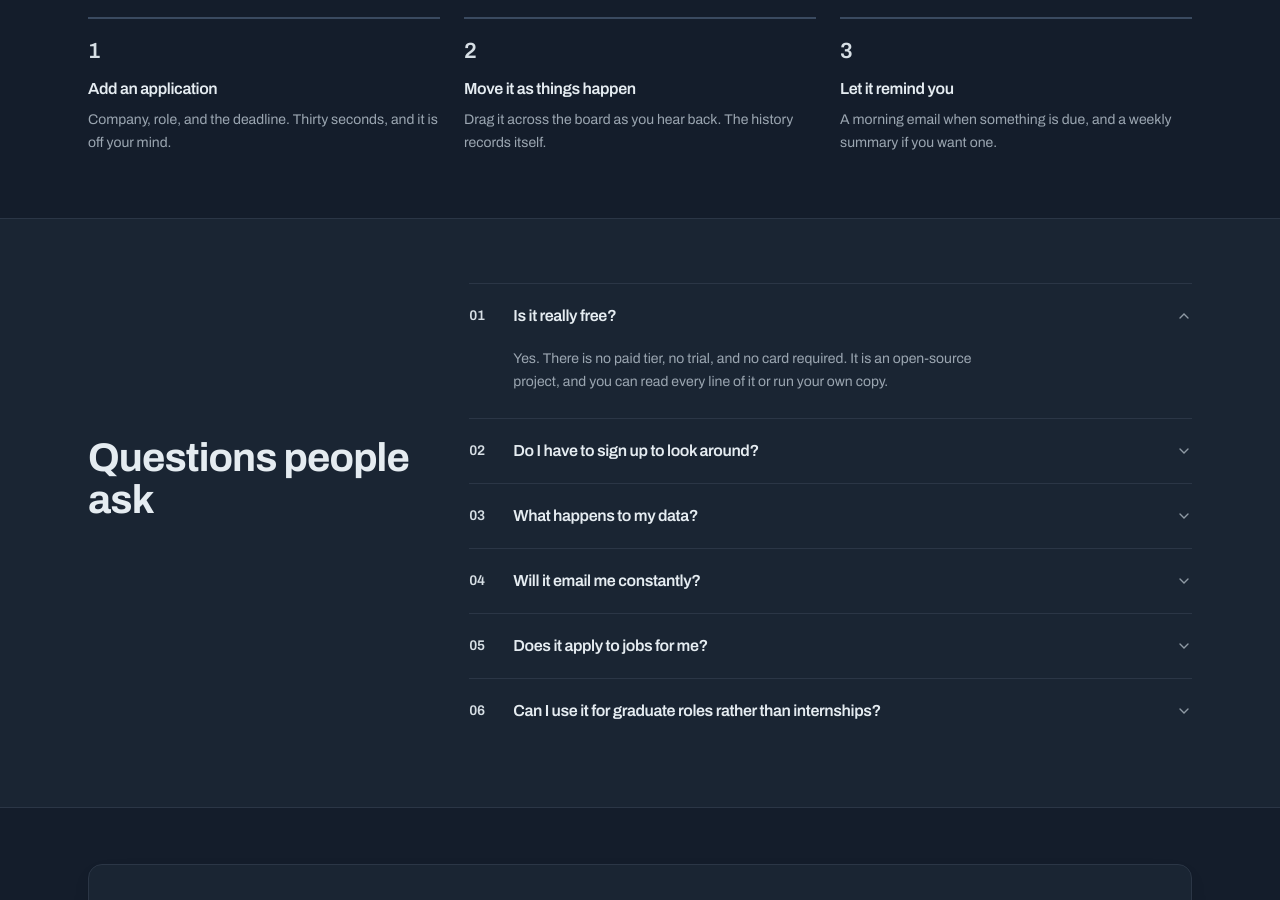
the FAQ accordion › shows one answer at a time
(page scrolled)
Expected: the heading "Questions people ask" is shown, [88,437,429,520]
Click the button "02 Do I have to sign up to look around?" at (636,450), box [469,419,1192,483]
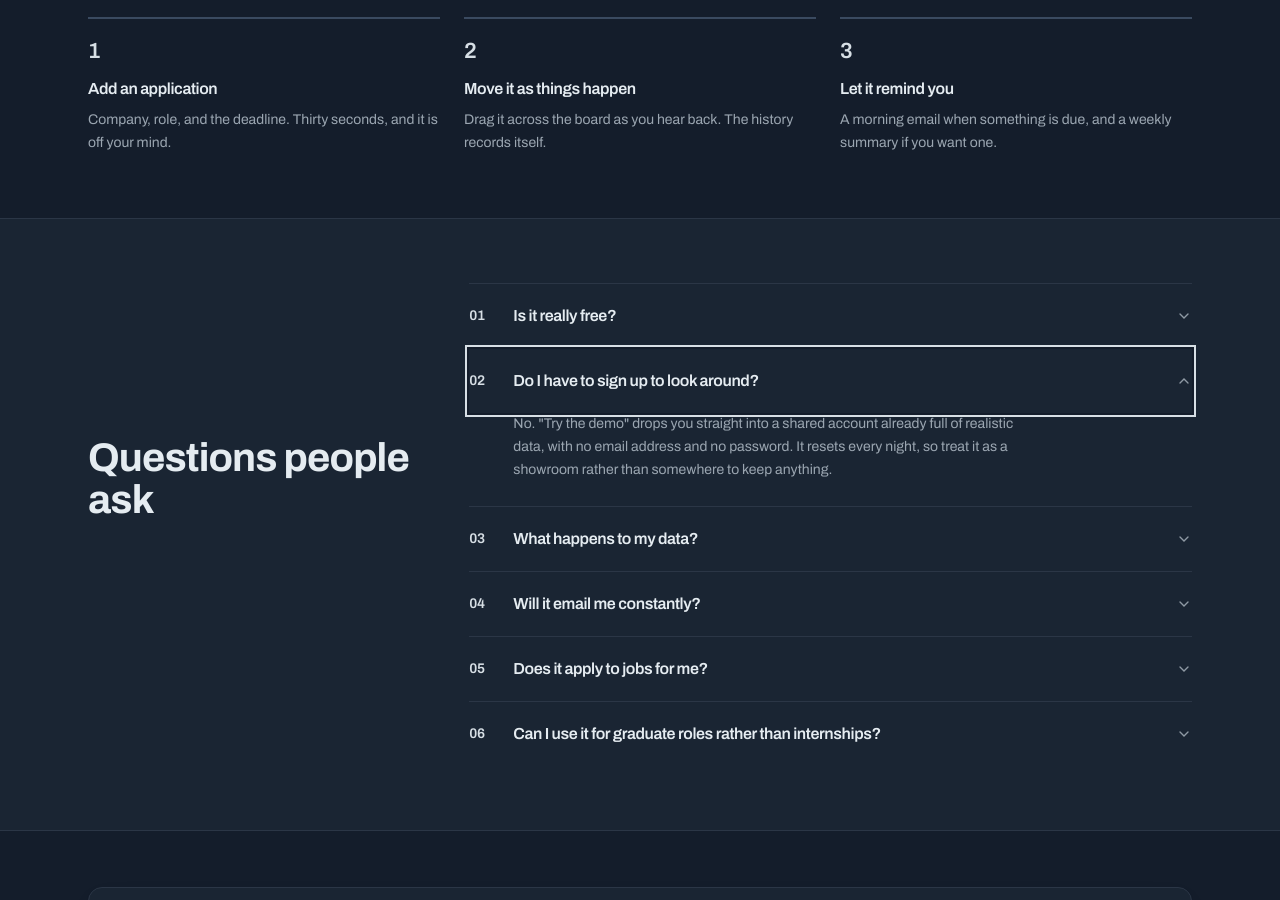
Result: the button "02 Do I have to sign up to look around?" is expanded at [469,349,1192,413]
Result: the button "01 Is it really free?" is collapsed at [469,284,1192,348]
